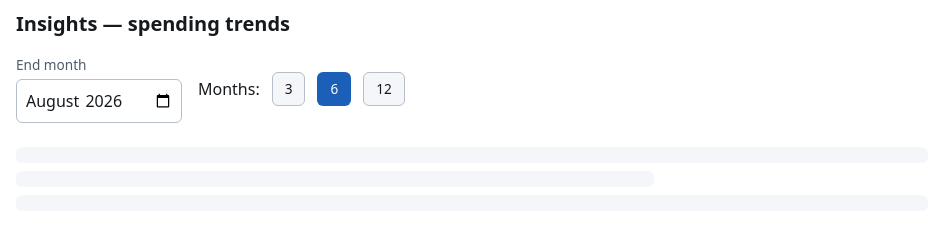
SpendingTrendsView (FEAT-UX10) › empty state when the window has no outflow
// Well outside the fixture's data — no table caption ever renders, so set directly.
Replace the text in the field labelled "End month" with "2020-01" at [99, 101], box [16, 79, 182, 123]
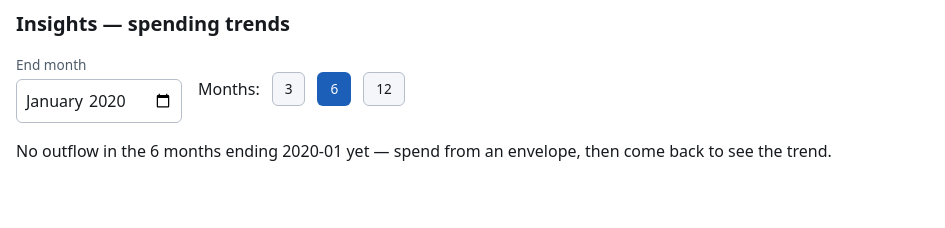
Result: the text "No outflow in the" is shown at [16, 140, 150, 162]
